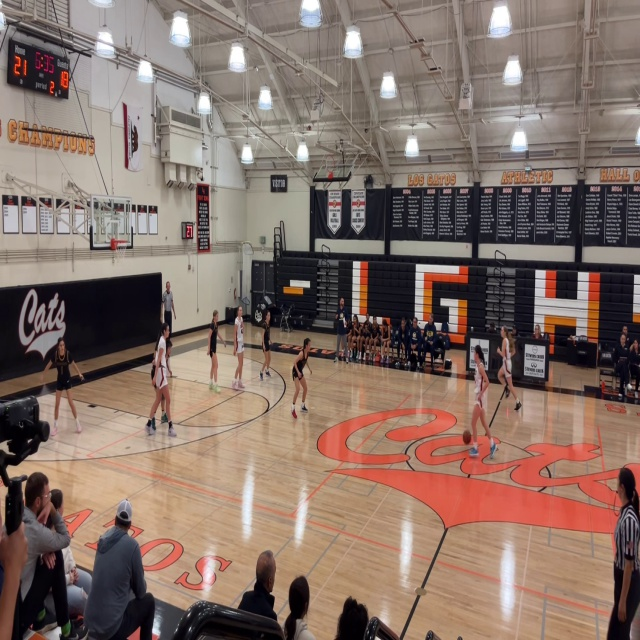Basketball: (463, 430, 471, 445)
